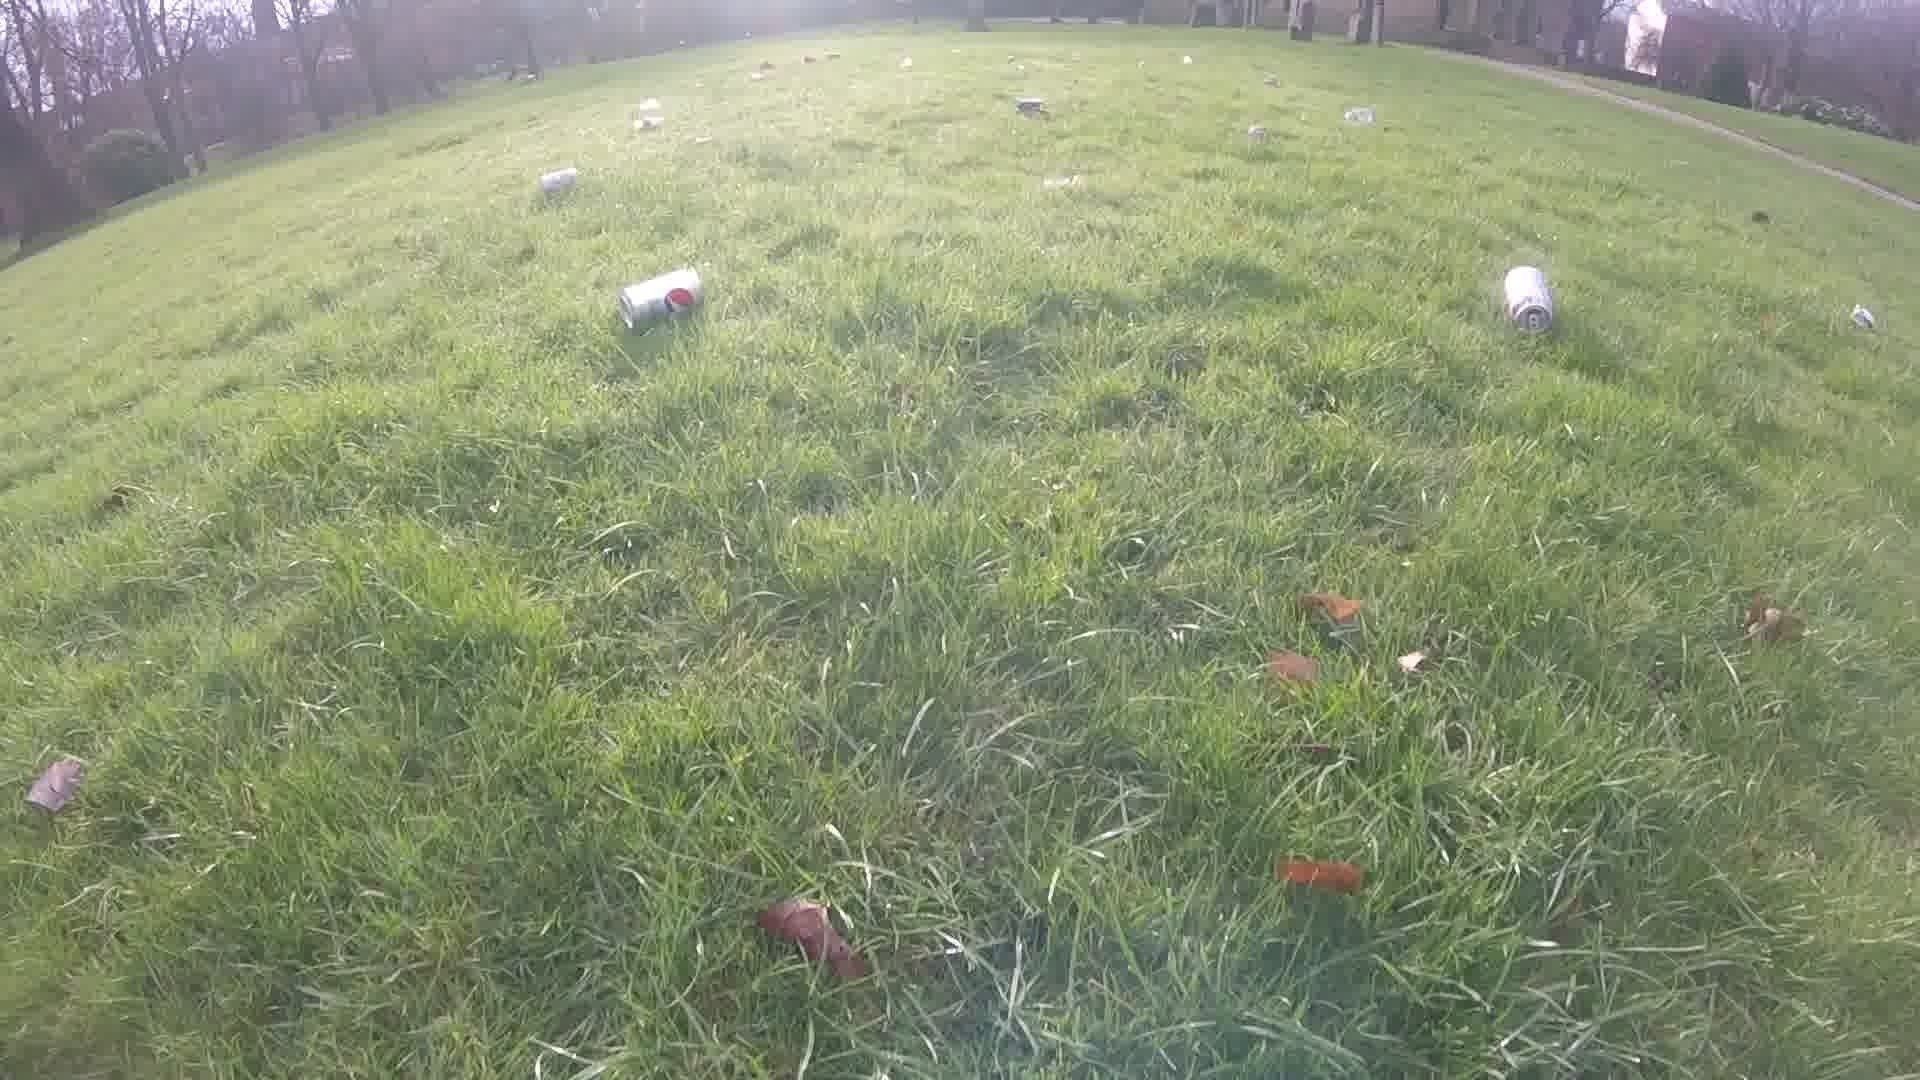litter: (615, 265, 708, 326), (1503, 264, 1549, 334), (535, 164, 579, 199), (1030, 173, 1095, 194), (1840, 301, 1874, 334), (1010, 94, 1044, 113), (626, 115, 669, 131), (1344, 108, 1379, 127), (1242, 123, 1270, 145), (1259, 70, 1284, 88), (799, 51, 837, 63), (634, 98, 661, 115), (750, 58, 782, 70), (891, 55, 914, 69), (1747, 208, 1770, 222), (1174, 54, 1195, 65)
